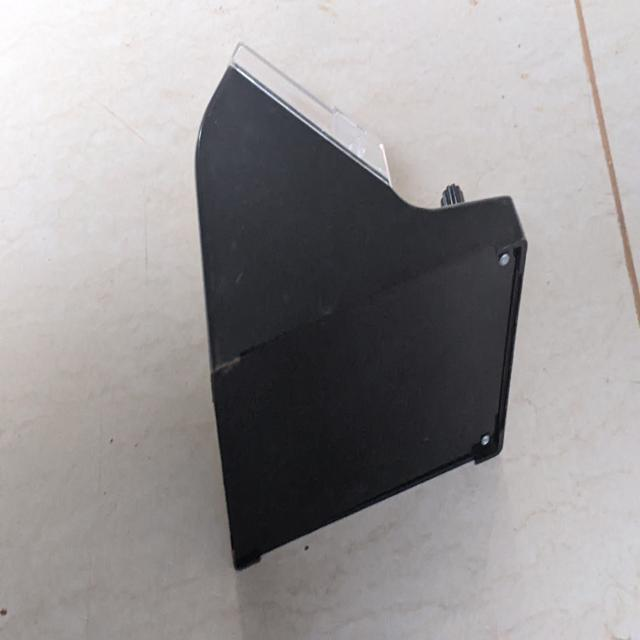Galvanometer: (180, 26, 540, 583)
